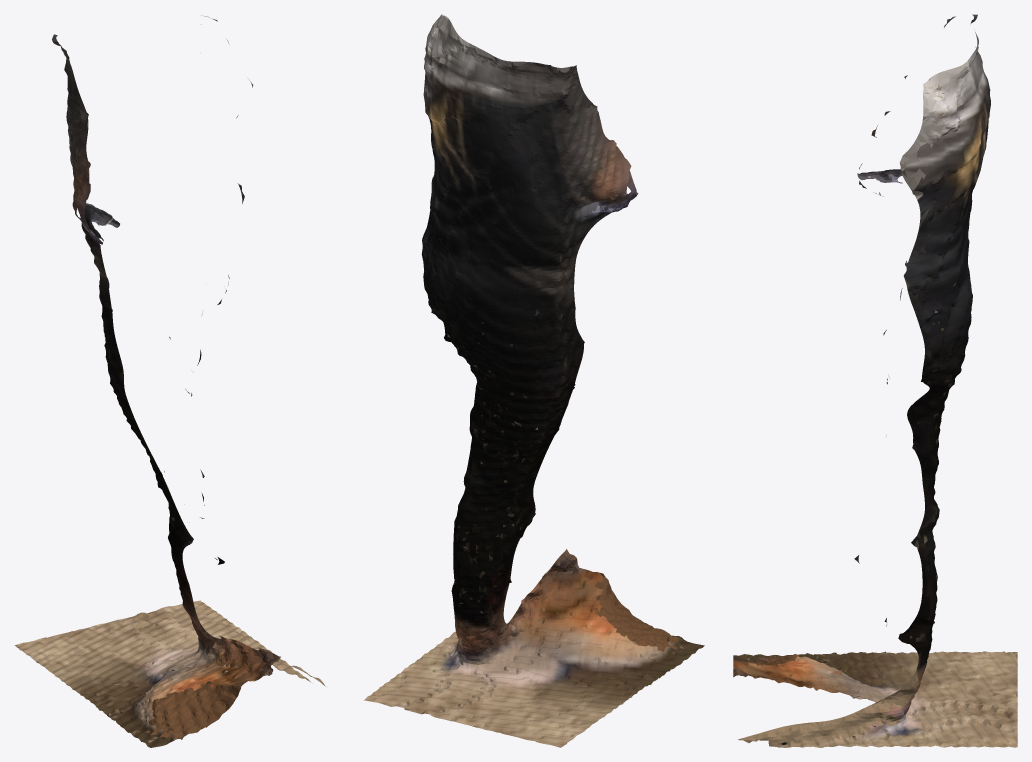
3 views of the same model, side by side, from view 1: azimuth 30°, elevation 25°; view 2: azimuth 150°, elevation 25°; view 3: azimuth 270°, elevation 25° (orthographic). The views are drawn at different scales.
Bounding box in the file's own units: 0.4095 × 1.32 × 0.5183.
1 material, 1 textured.
